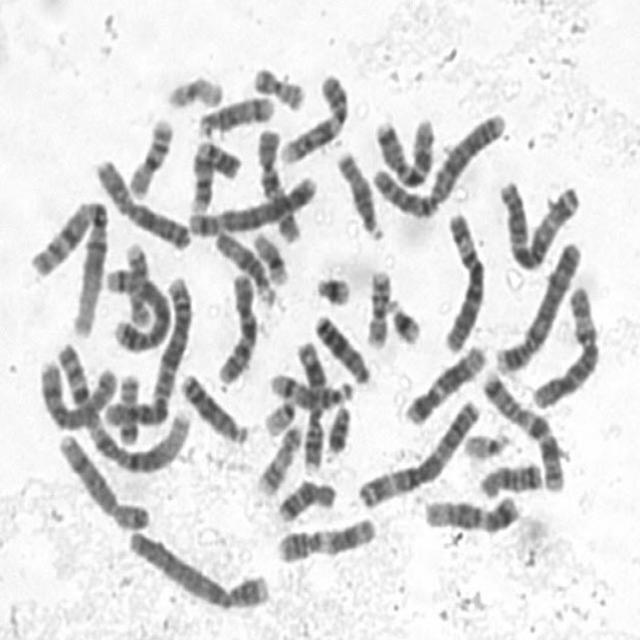A1: (54, 334, 195, 477), (26, 190, 113, 340)
A2: (367, 103, 509, 221), (101, 270, 195, 434)
A3: (352, 390, 484, 510), (495, 173, 584, 272)
B4: (491, 235, 584, 376), (123, 525, 272, 613)
B5: (185, 168, 321, 237), (102, 262, 172, 354)
C10: (252, 123, 304, 244), (212, 267, 261, 387)
C11: (272, 511, 378, 564), (290, 334, 328, 473)
C12: (401, 338, 490, 427), (419, 489, 523, 533)
C6: (528, 282, 603, 411), (438, 205, 490, 355)
C7: (478, 364, 567, 495), (370, 112, 437, 189)
C8: (53, 426, 152, 533), (35, 355, 119, 432)
C9: (276, 67, 350, 166), (184, 133, 245, 215)
D13: (176, 367, 251, 446), (310, 307, 372, 387)
D14: (193, 87, 277, 138), (266, 366, 357, 410)
D15: (210, 225, 277, 306), (333, 146, 386, 242)
E16: (124, 111, 176, 200), (361, 264, 393, 350)
E17: (252, 419, 304, 497), (122, 237, 154, 329)
E18: (273, 473, 338, 524), (476, 456, 544, 500)
F19: (162, 68, 226, 110), (248, 226, 292, 287)
F20: (248, 59, 308, 112), (114, 366, 144, 447)
G21: (384, 292, 424, 346), (310, 268, 354, 307)
G22: (460, 425, 512, 461), (260, 392, 298, 437)
X: (90, 152, 193, 253)
Y: (322, 399, 353, 457)
